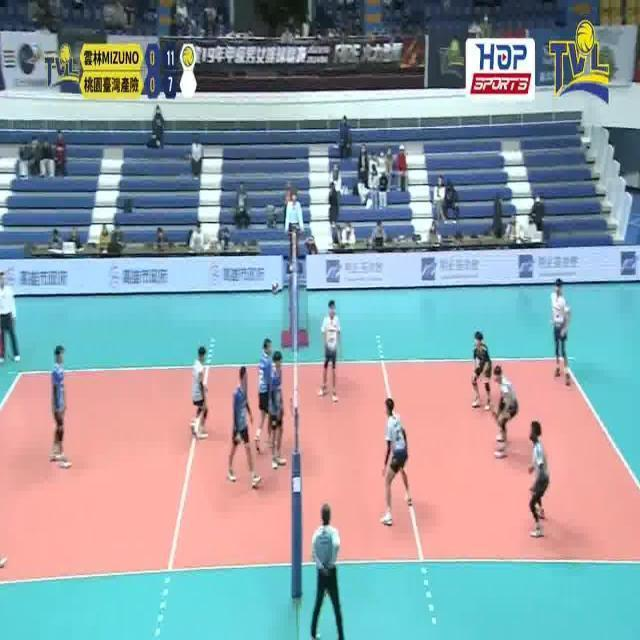volleyball: (272, 281, 281, 294)
